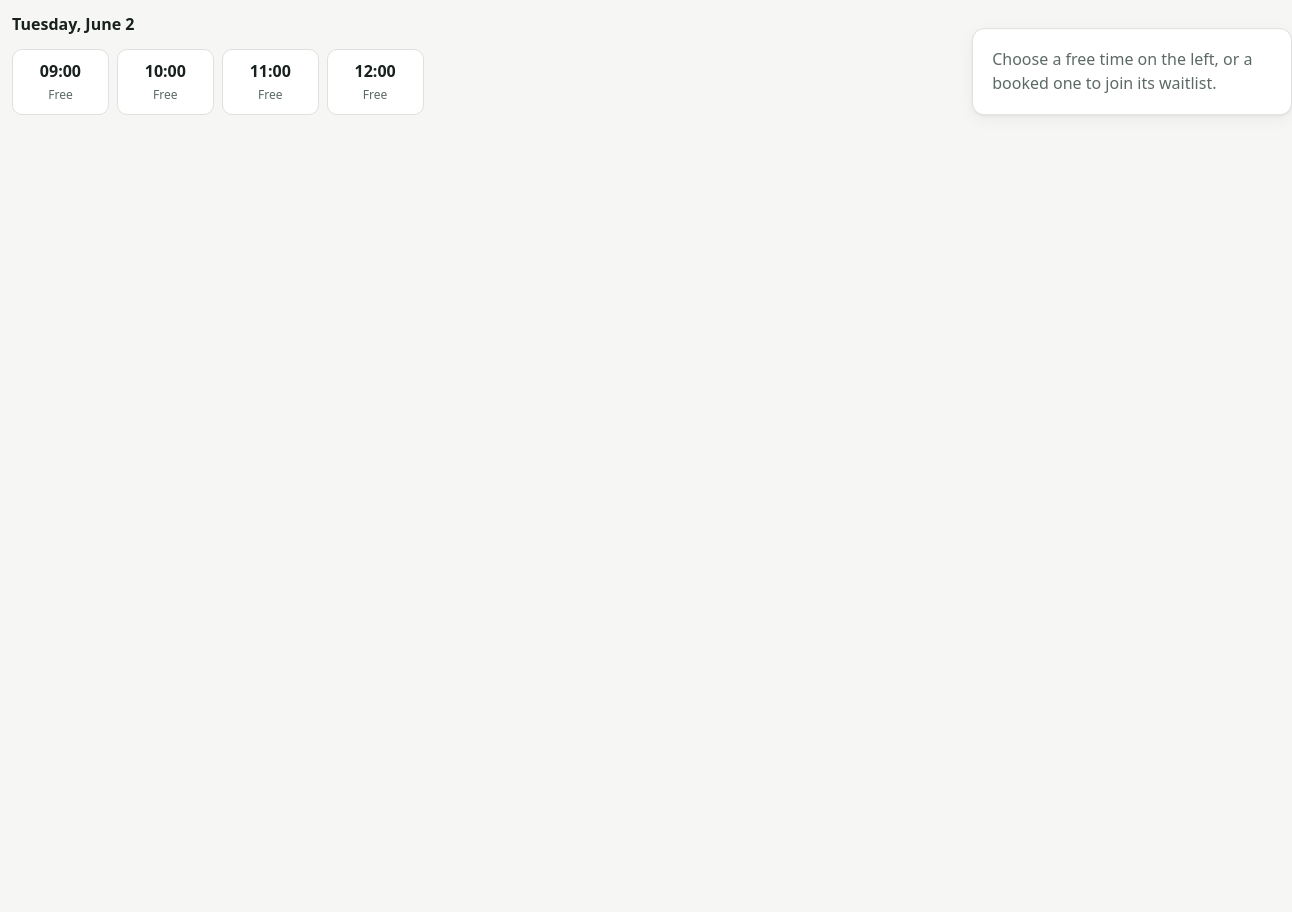
DayView › shows the API's field error next to the email field, announced
Click the button "10:00 Free" at (165, 82), box [117,49,214,115]
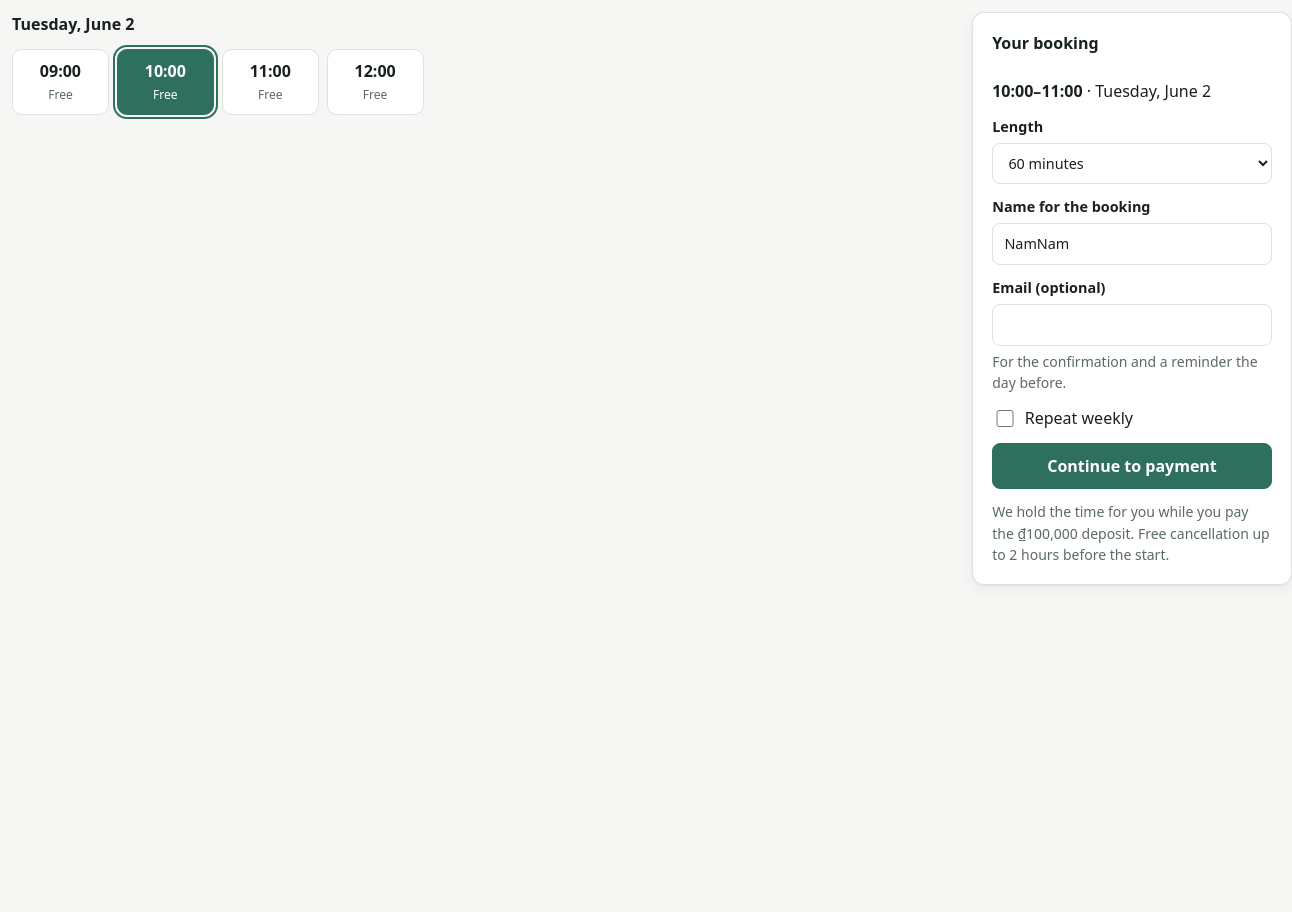
Type "Nam" into the field labelled "Name for the booking" at (1132, 244), box [992,223,1272,265]
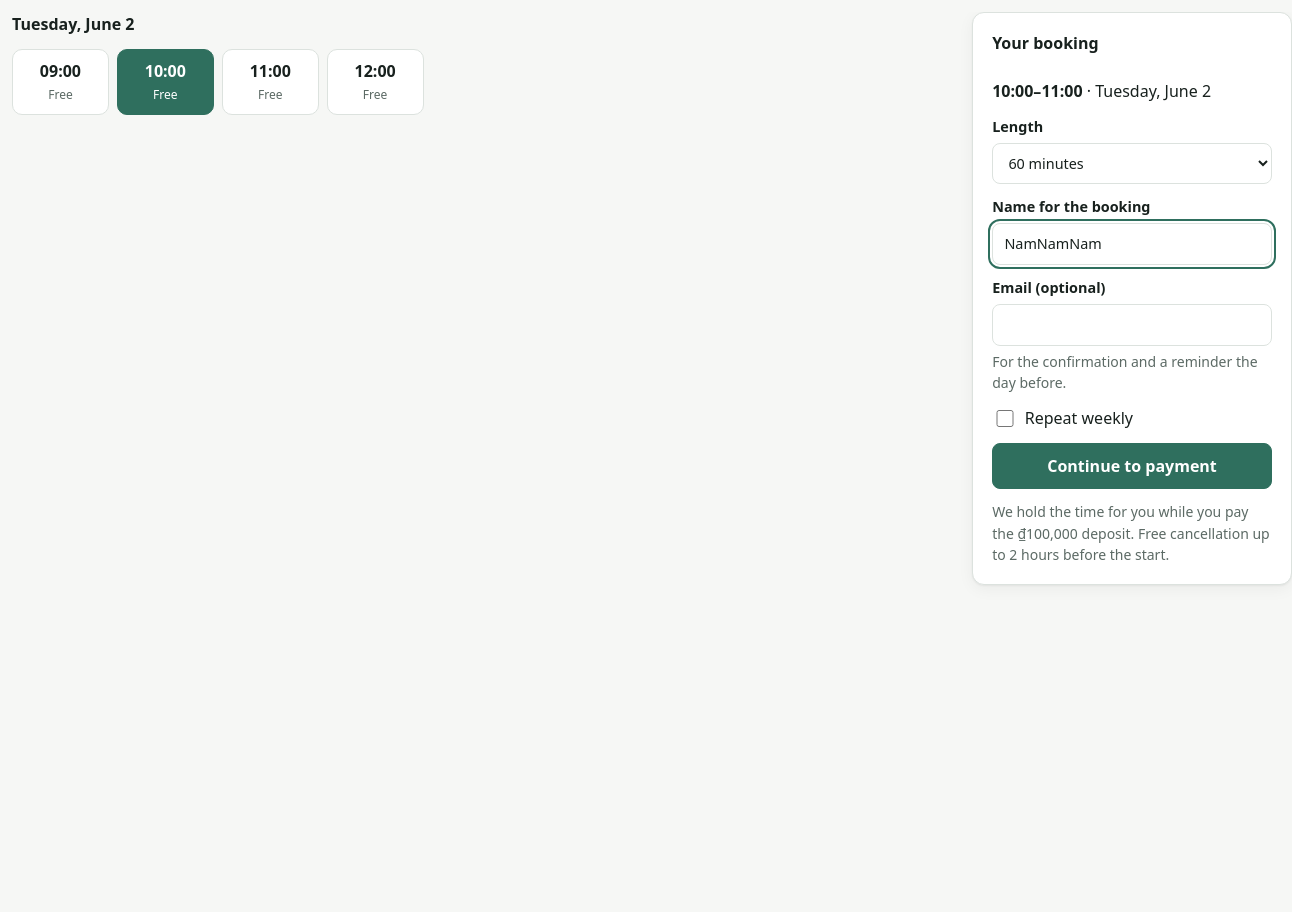
Click the button "Continue to payment" at (1132, 466), box [992,443,1272,489]
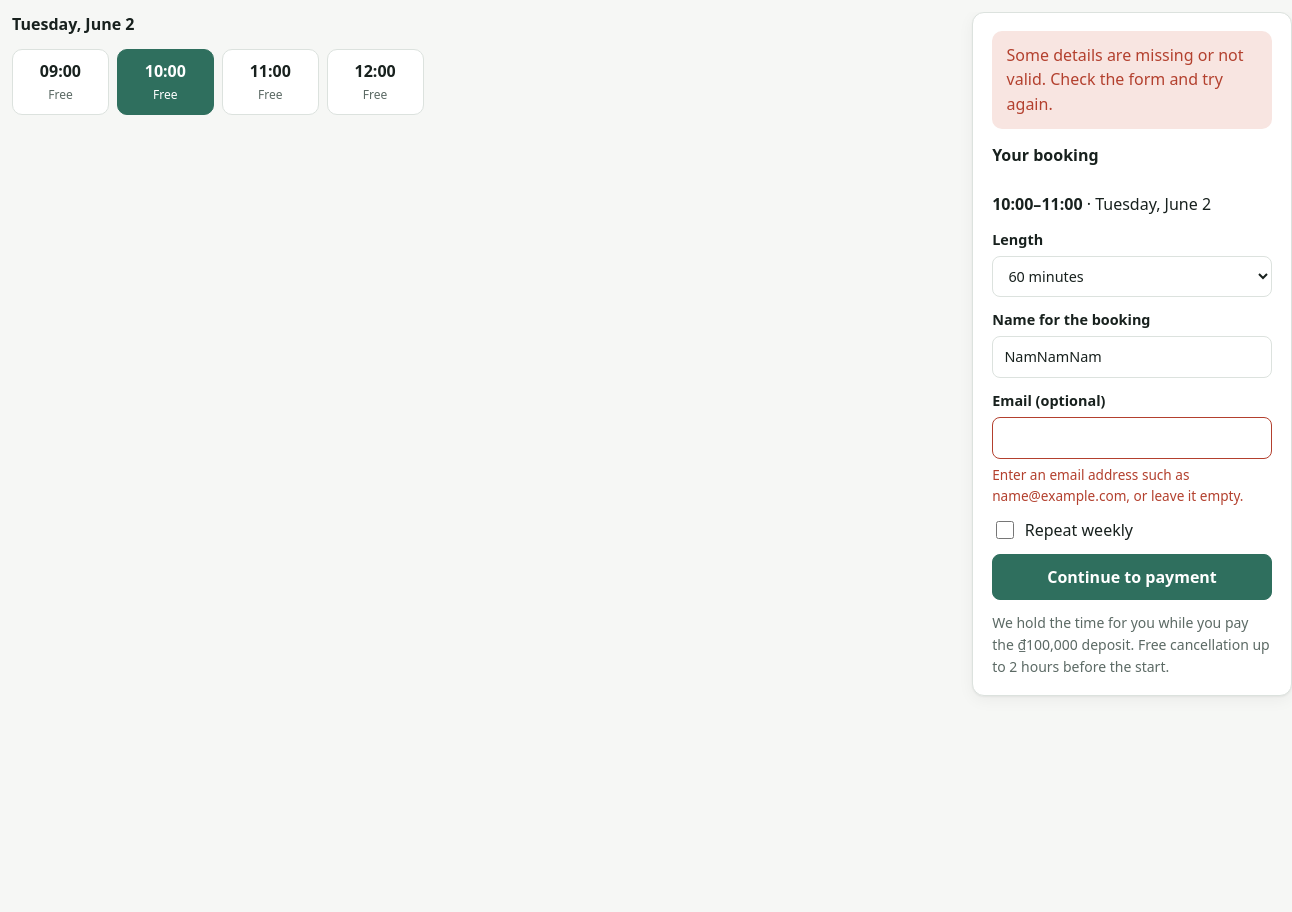
Expected: the message "Enter an email address such as name@example.com, or leave it empty." is shown, [992,464,1272,506]
